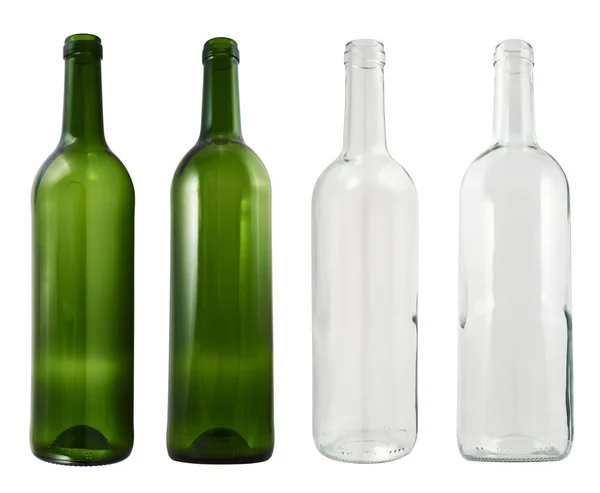glass_bottle: (304, 31, 581, 470), (23, 27, 286, 472)
